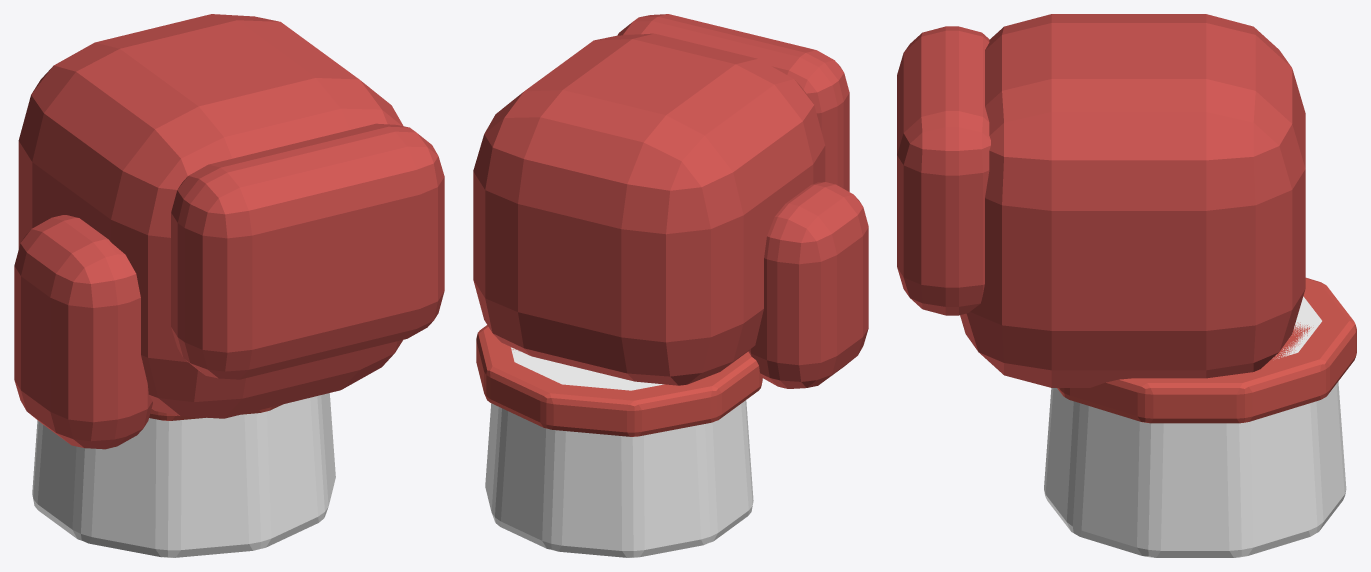
The model's file is weapon-glove.glb.
The picture shows the model from 3 angles, left to right: view 1: azimuth 30°, elevation 25°; view 2: azimuth 150°, elevation 25°; view 3: azimuth 270°, elevation 25°; orthographic projection. The views are drawn at different scales.
Visible parts, largest first — view 1: weapon-glove; view 2: weapon-glove; view 3: weapon-glove.
Part boxes in pixels (x1,y1,x2,y2): weapon-glove: (14, 14, 444, 557); weapon-glove: (473, 14, 868, 557); weapon-glove: (897, 14, 1356, 557).
Bounding box in the file's own units: 0.18 × 0.225 × 0.2083.
1 material, 1 textured.
